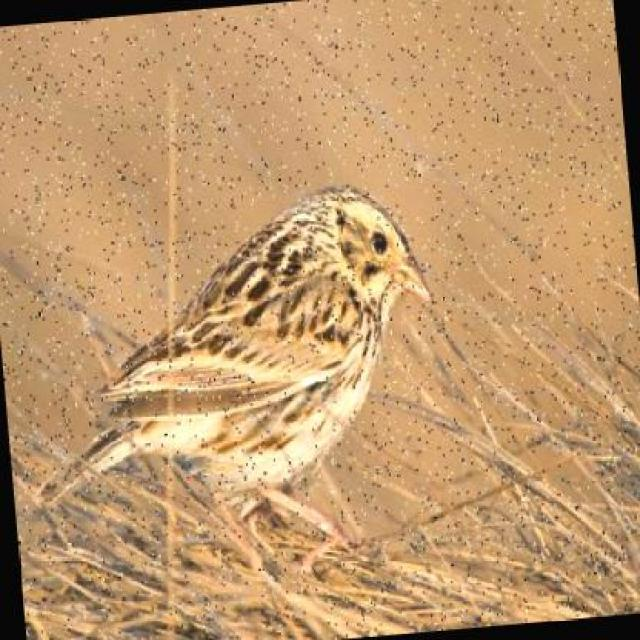Bird: (49, 156, 437, 532)
